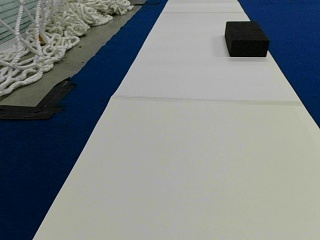block: (225, 20, 268, 57)
